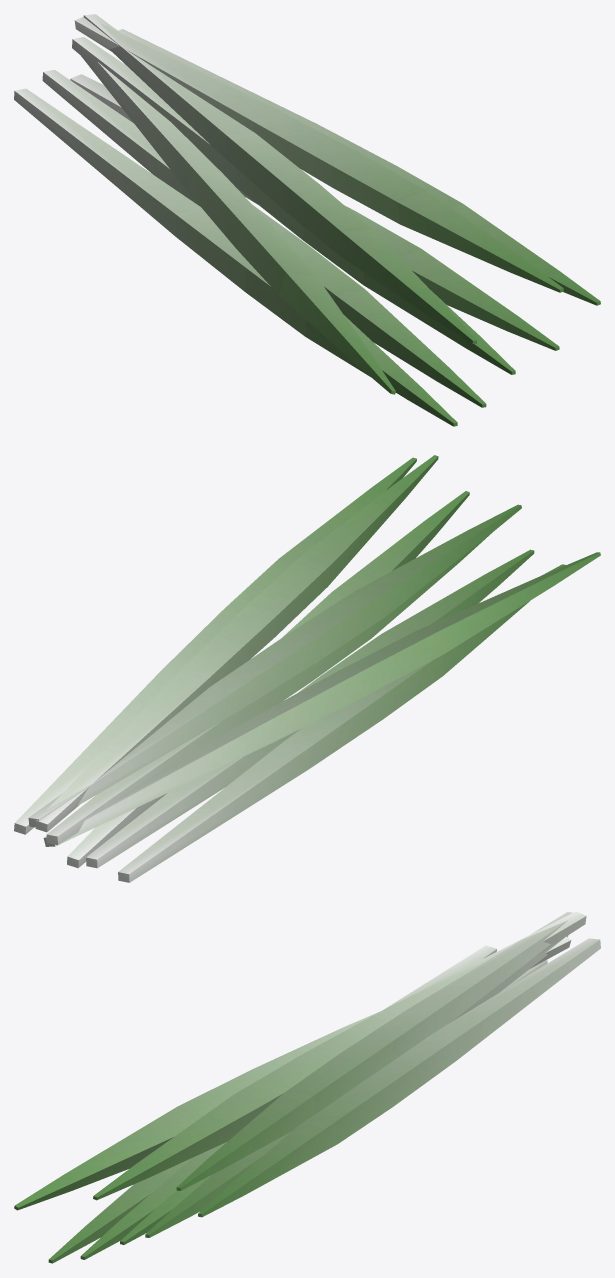
The model's file is Vegetable_Chives.glb.
3 views of the same model, one above another, from view 1: azimuth 30°, elevation 25°; view 2: azimuth 150°, elevation 25°; view 3: azimuth 330°, elevation 25° (orthographic). The views are drawn at different scales.
Parts seen in each view (by area): view 1: chives.001; view 2: chives.001; view 3: chives.001.
Part boxes in pixels (x1,y1,x2,y2): chives.001: (14,14,600,426); chives.001: (14,455,600,882); chives.001: (14,911,600,1263).
Size of the model in its own units: 0.1139 by 0.0576 by 0.44.
Materials: 1 (1 with a texture image).
